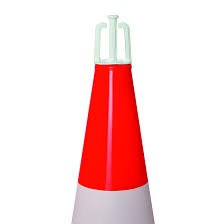cones: (72, 63, 161, 224)
